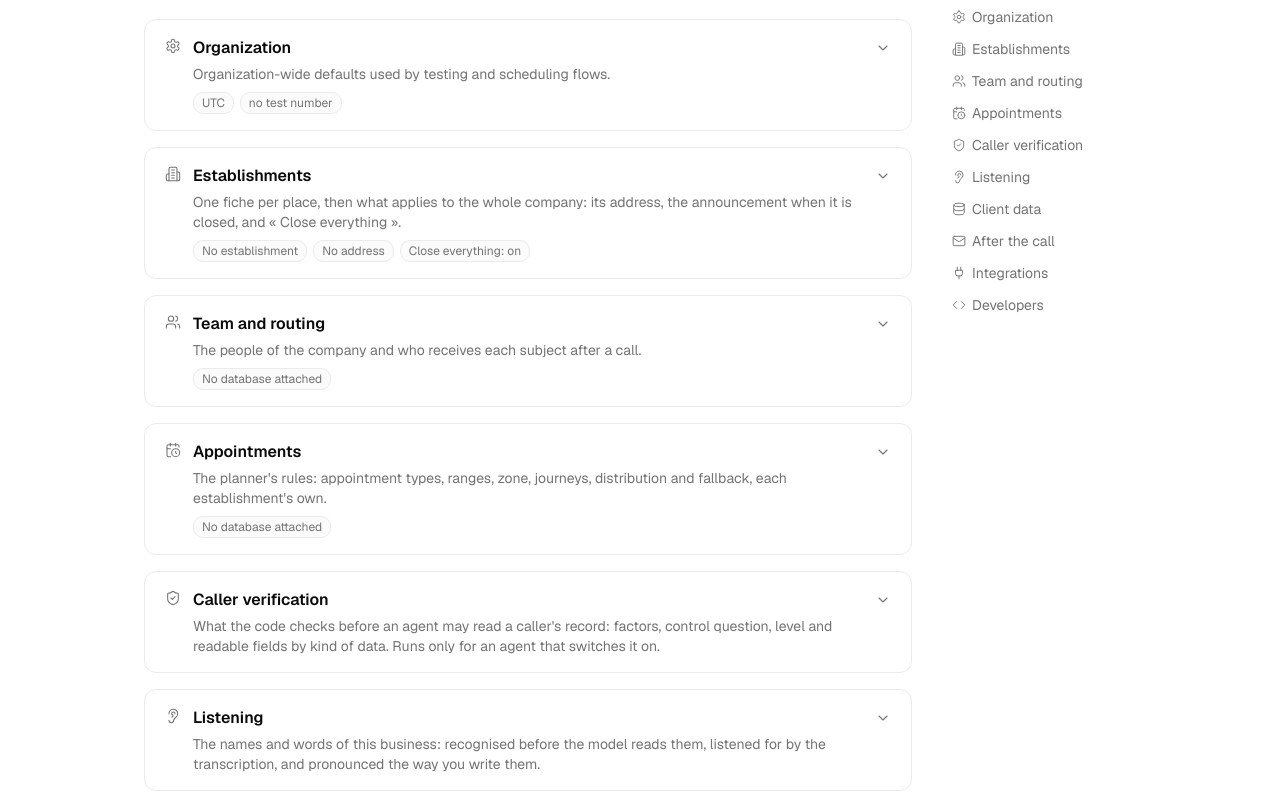
Test: [.mark] the Platform Settings page in themes › ⛔ keeps the save asleep while the preferences are read (review of 26/09, M1)
Click the button that starts with "Organization": (528, 75) [145,20,911,130]
(page scrolled)
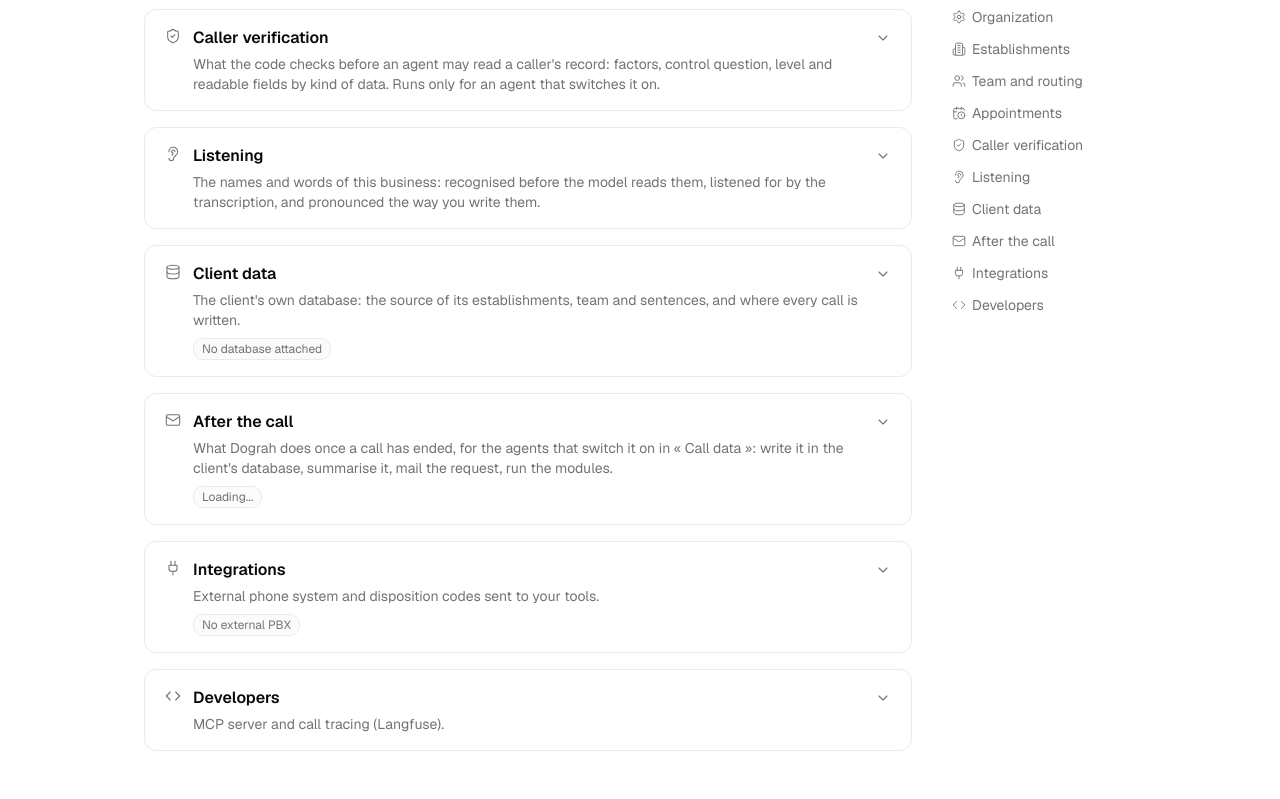
Click the button that starts with "Integrations": (528, 597) [145,542,911,652]
(page scrolled)
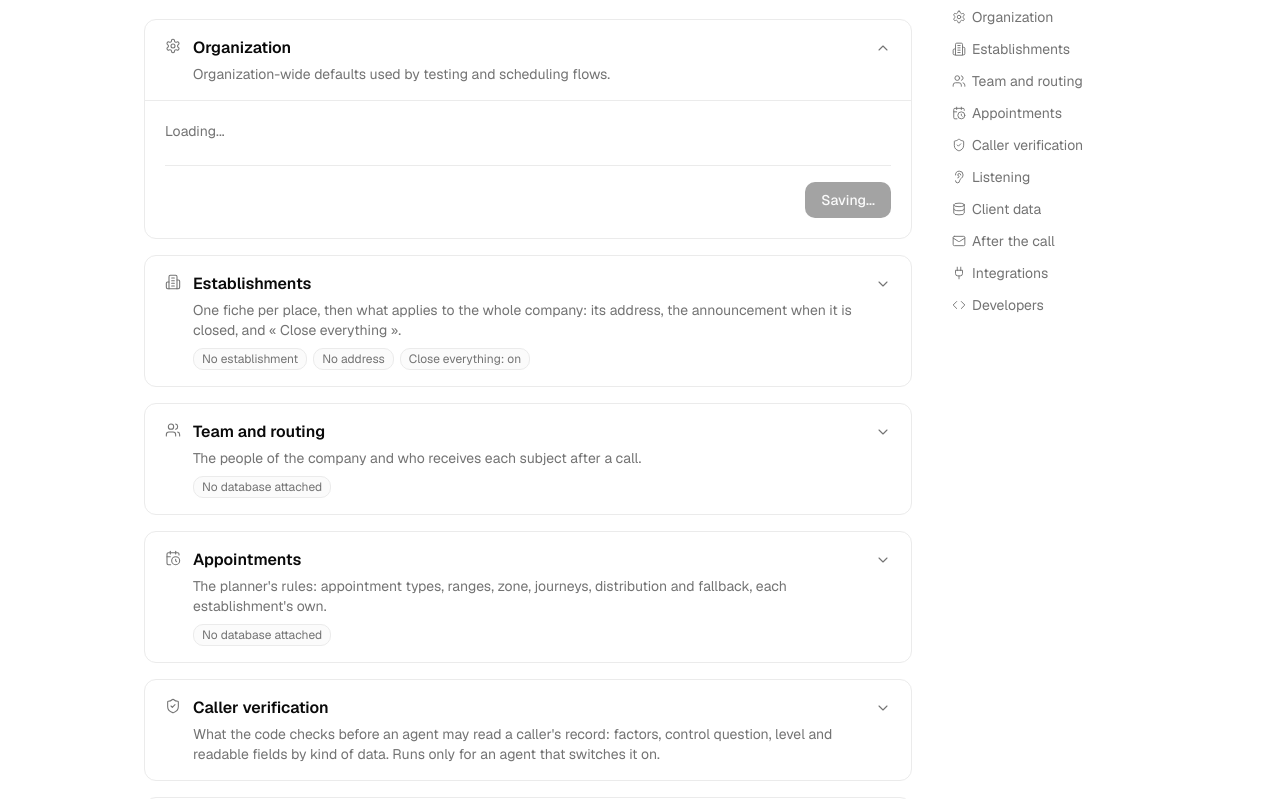
Click the button that starts with "Establishments": (528, 321) [145,256,911,386]
(page scrolled)
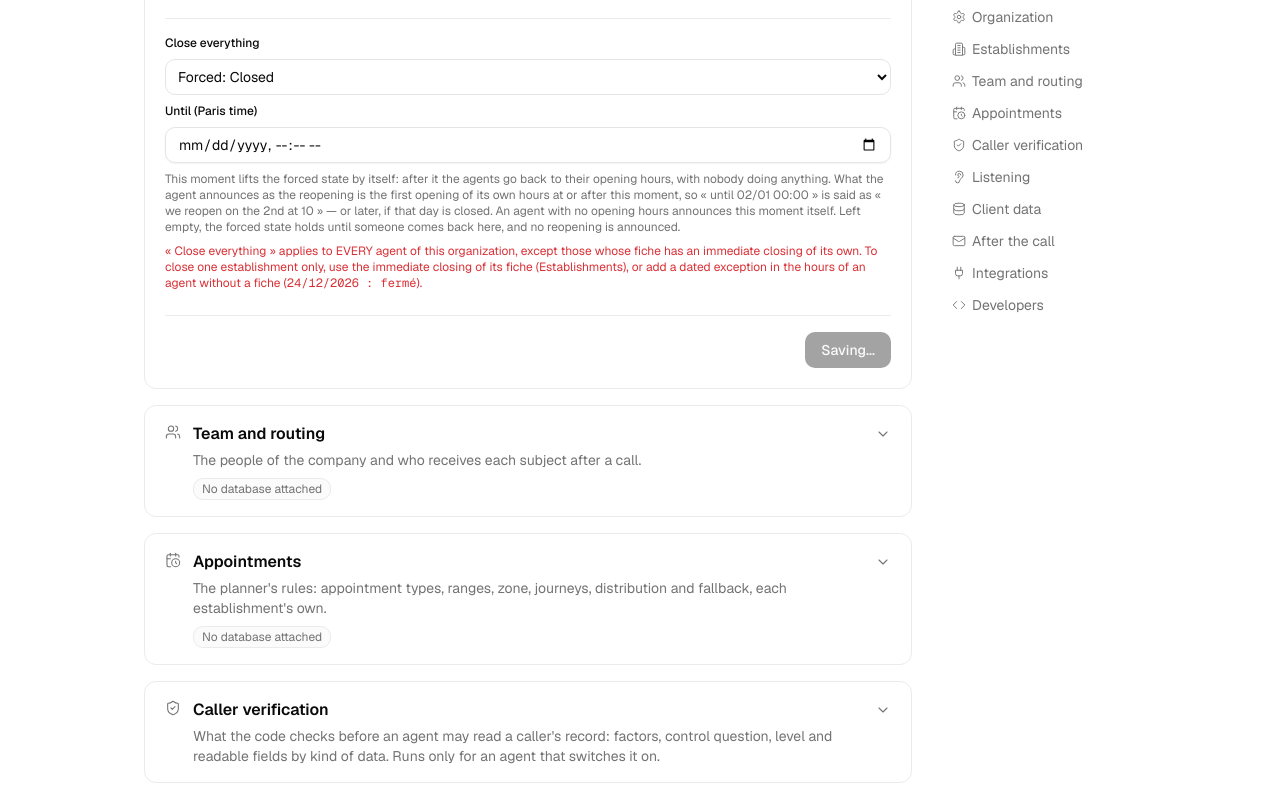
Now the button with aria-label "Save Establishments" is disabled, box [805,332,891,368]
